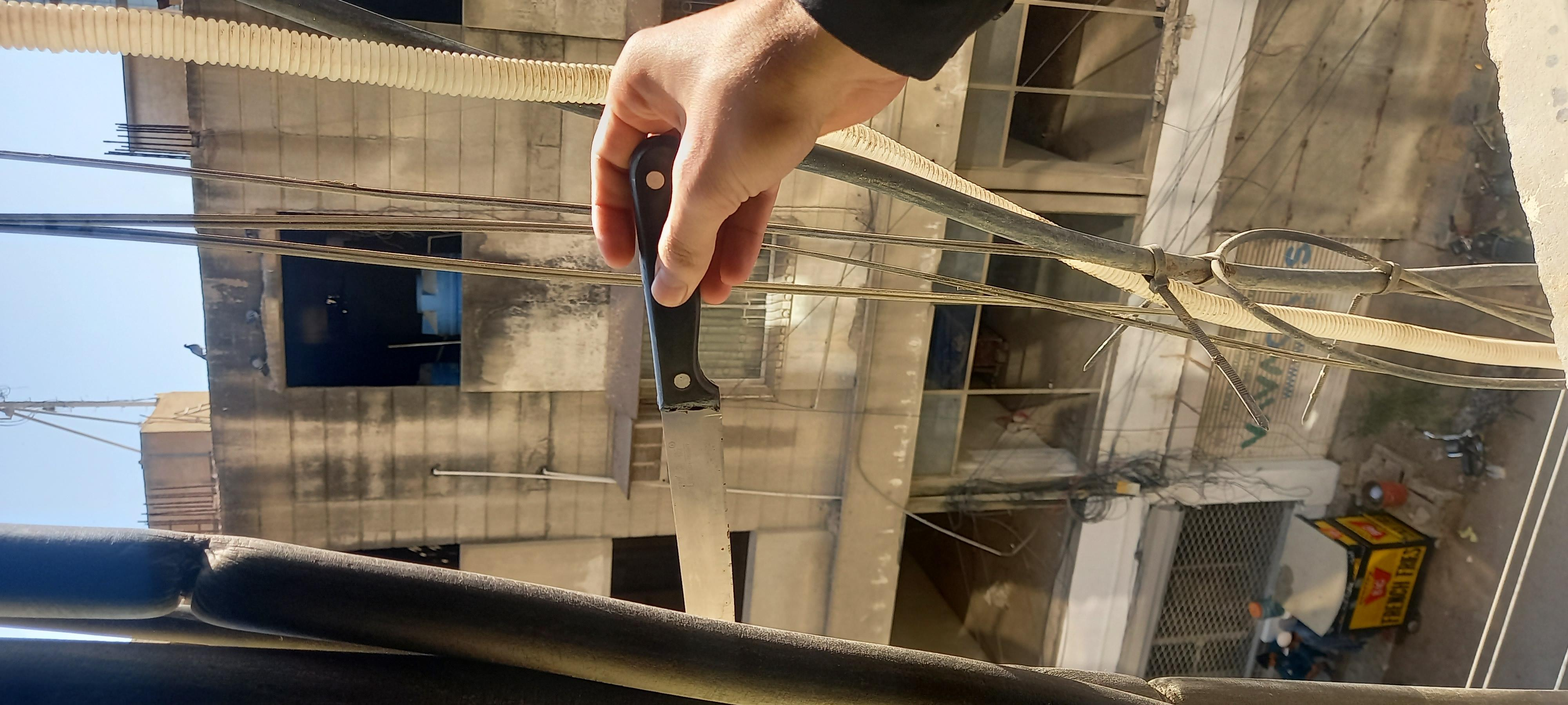knives: (163, 277, 1268, 348)
